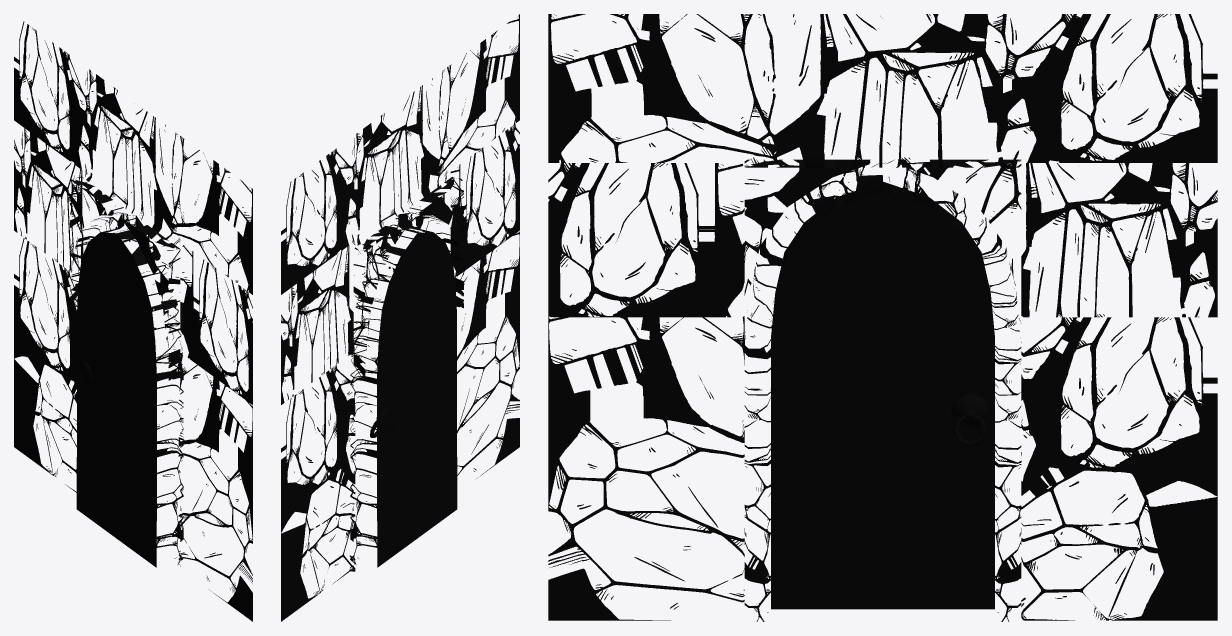
Rendered from Model_Environment_WallDoor.fbx.
3 views of the same model, side by side, from view 1: azimuth 30°, elevation 25°; view 2: azimuth 150°, elevation 25°; view 3: azimuth 270°, elevation 25° (orthographic). The views are drawn at different scales.
Visible parts, largest first — view 1: WallDoor_low; view 2: WallDoor_low; view 3: WallDoor_low.
Boxes of the visible parts, x1,y1,x2,y2 form: WallDoor_low: (14,21,252,621); WallDoor_low: (281,14,519,621); WallDoor_low: (548,14,1217,621).
Size of the model in its own units: 0.1661 by 3 by 3.
